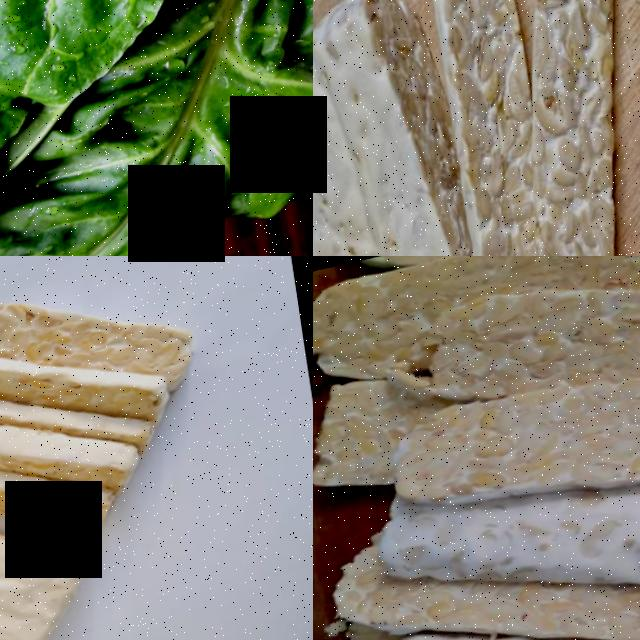spinach: (0, 0, 313, 256), (0, 0, 144, 195)
tempeh: (395, 324, 640, 561), (313, 5, 497, 256), (417, 0, 563, 256), (421, 260, 640, 405), (501, 15, 632, 256), (0, 277, 199, 413), (368, 476, 599, 593), (313, 265, 432, 402), (0, 436, 117, 568), (457, 256, 640, 316), (353, 603, 612, 640), (586, 464, 640, 630)
